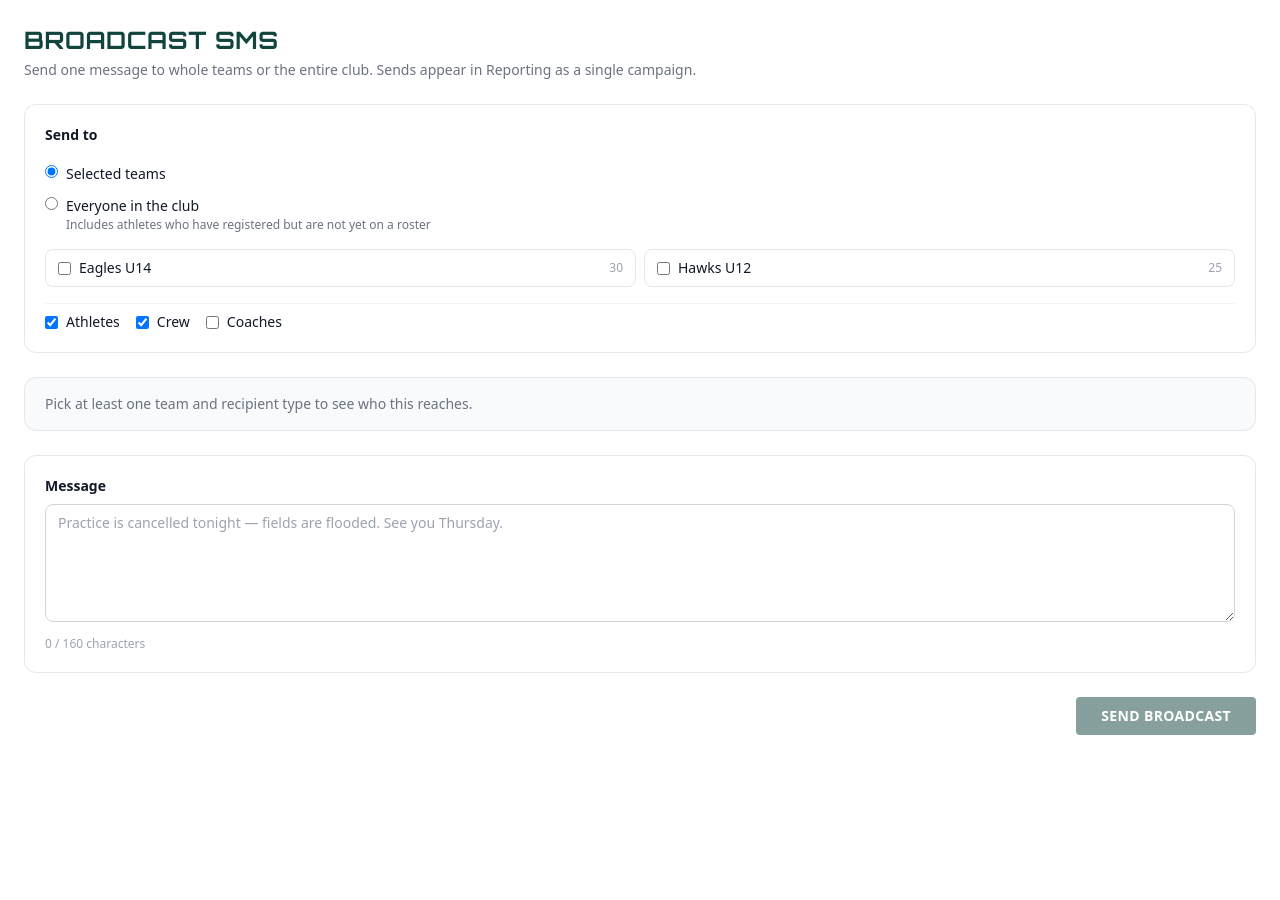
Test: BroadcastCompose › shows the backend error instead of reporting a false success
Click the checkbox labelled "Eagles U14 30". click: (64, 268)
box: x1=58 y1=262 x2=71 y2=274
Wait 400 ms
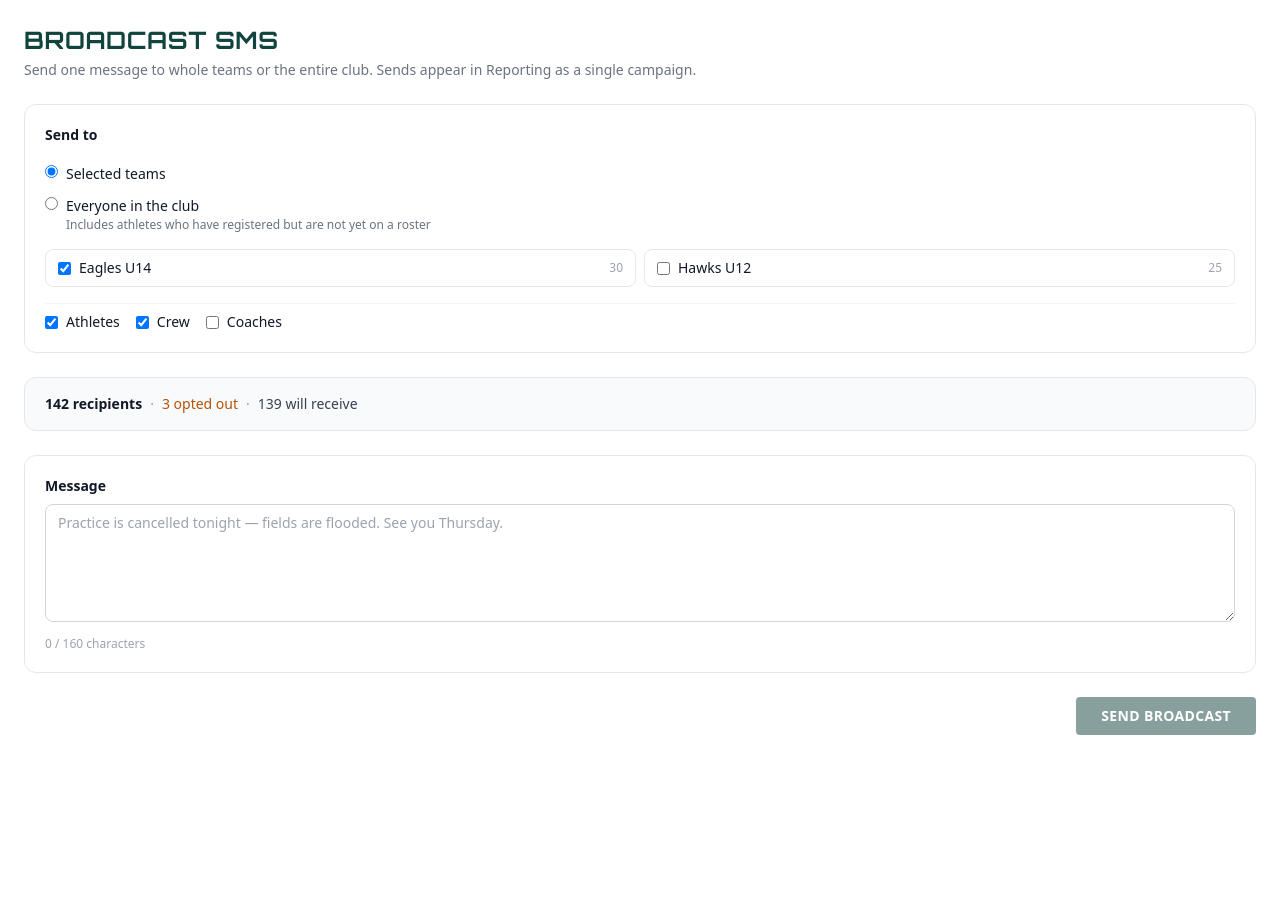
Replace the text in the text box labelled "Message" with "Hi". click: (640, 563)
box: x1=45 y1=504 x2=1235 y2=622
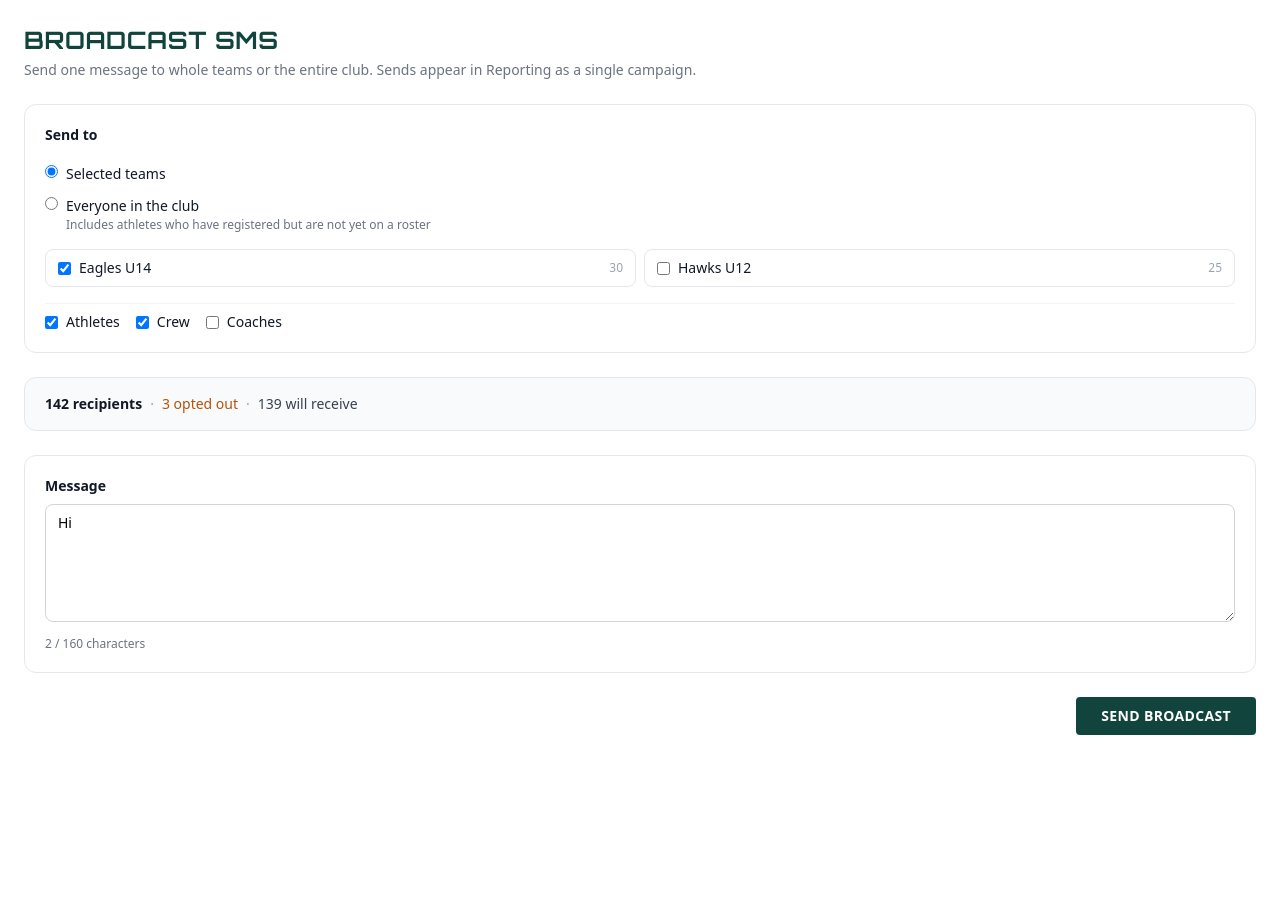
Click the button "Send broadcast". click: (1166, 716)
box: x1=1076 y1=697 x2=1256 y2=735
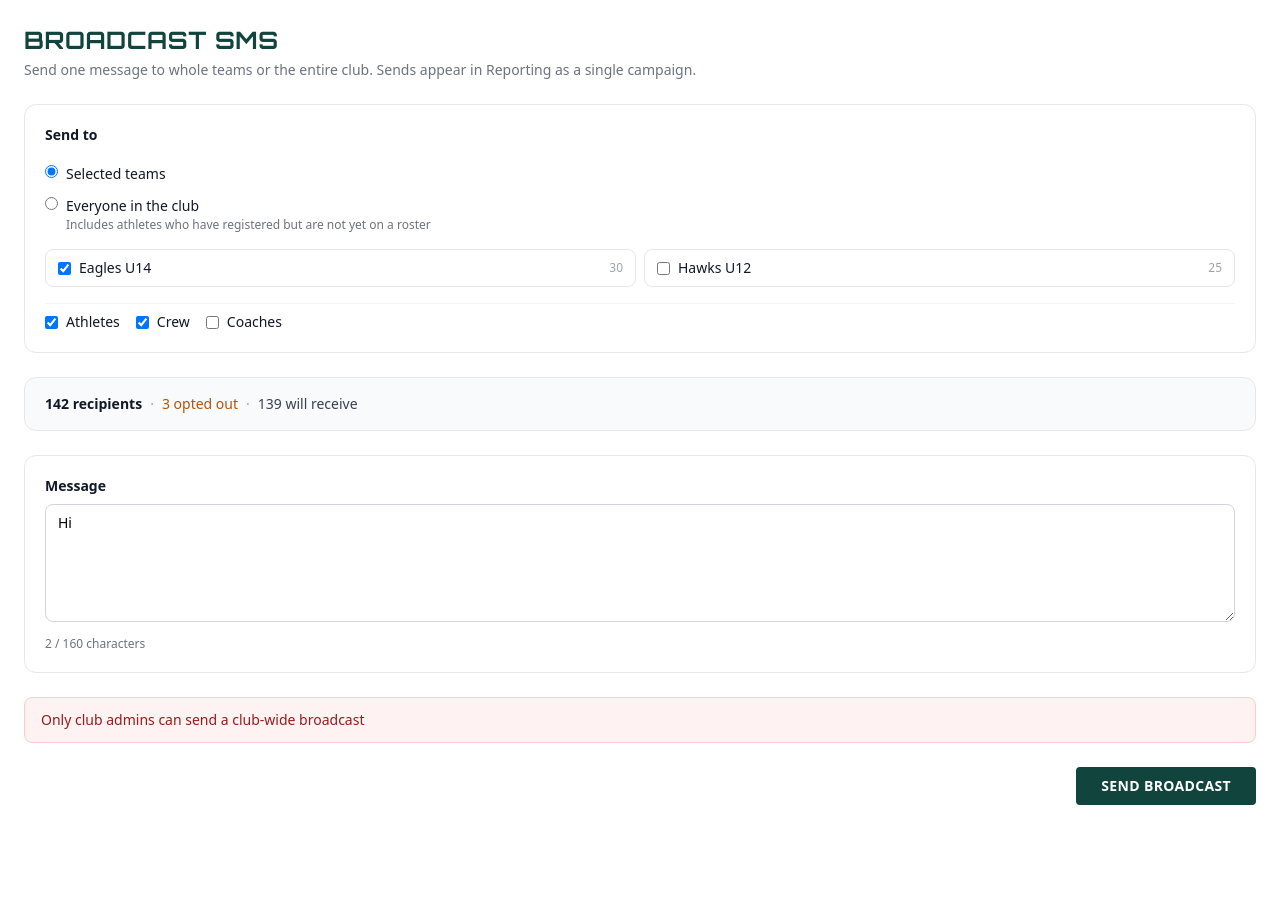
Check: the text "Only club admins can send a club-wide broadcast" is shown, box x1=24 y1=697 x2=1256 y2=743
